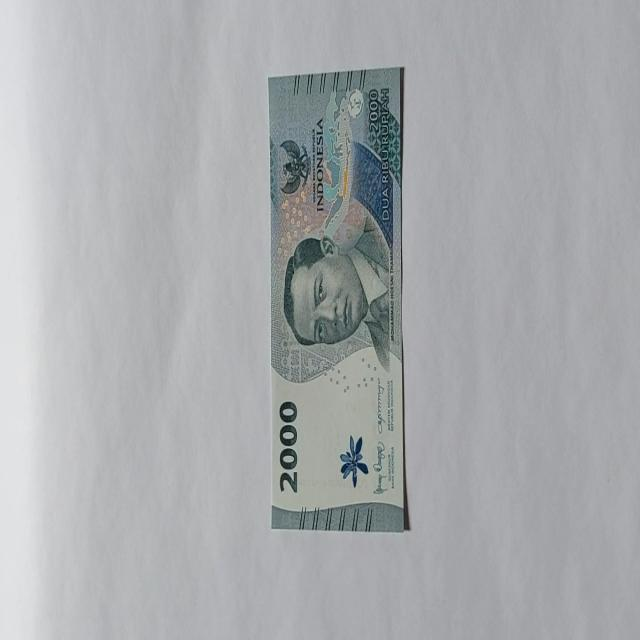dua ribu rupiah: (268, 68, 406, 530), (282, 210, 391, 374)
